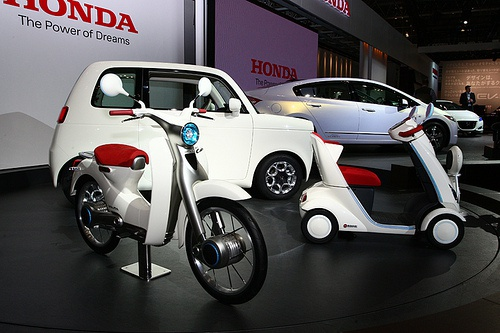non-vehicle: (56, 70, 267, 304), (296, 101, 467, 251)
